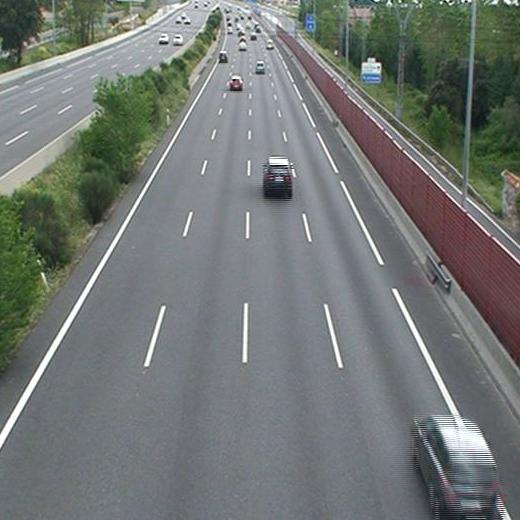car: (413, 419, 497, 512), (263, 158, 293, 188), (229, 75, 243, 88), (255, 61, 265, 73), (218, 51, 228, 61), (238, 41, 247, 49)
